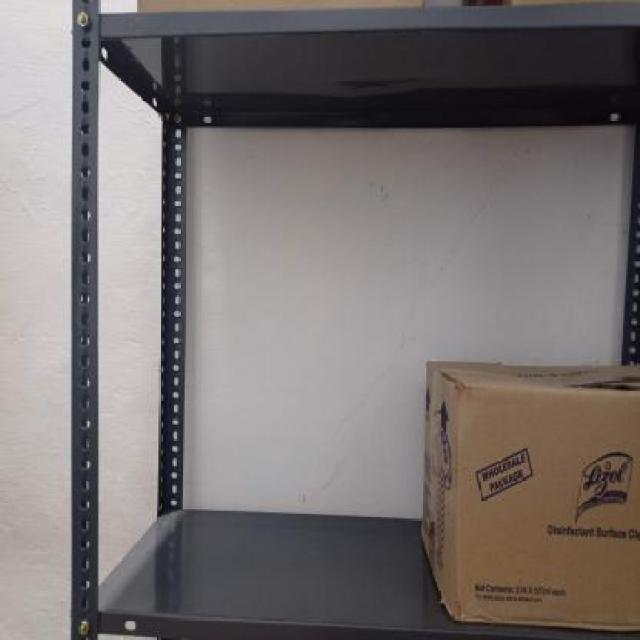box: (451, 380, 640, 636)
